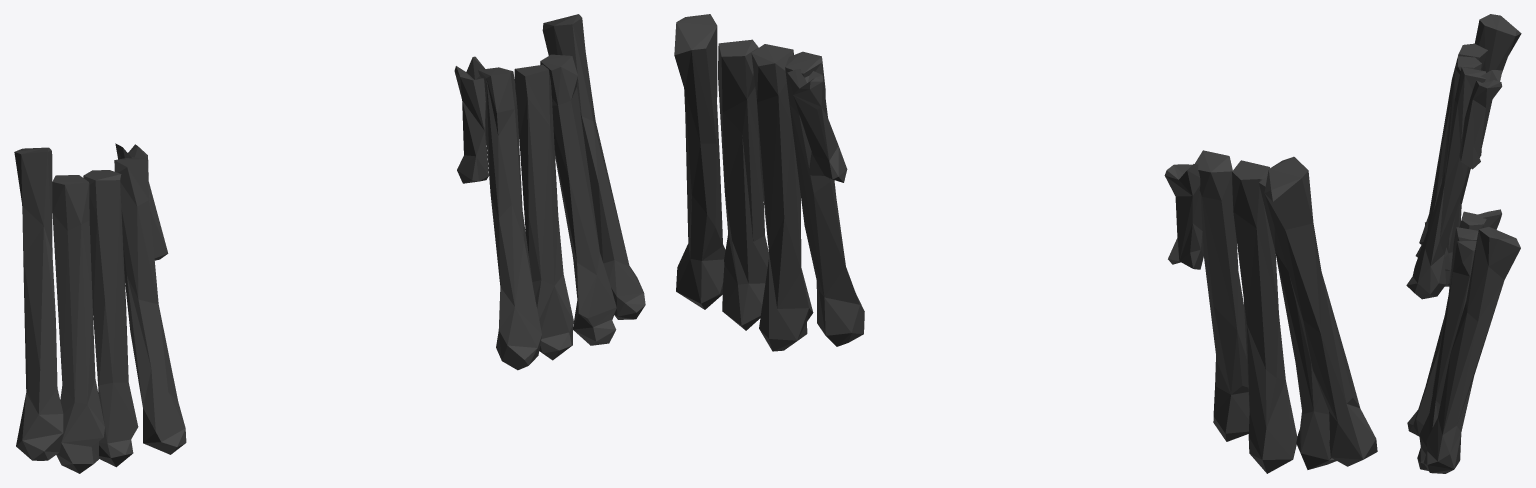
File: Metacarpals.glb
3 views of the same model, side by side, from view 1: azimuth 30°, elevation 25°; view 2: azimuth 150°, elevation 25°; view 3: azimuth 270°, elevation 25° (orthographic). The views are drawn at different scales.
Parts seen in each view (by area): view 1: Metacarpals; view 2: Metacarpals; view 3: Metacarpals.
Part boxes in pixels (x1,y1,x2,y2): Metacarpals: (14, 14, 645, 473); Metacarpals: (674, 14, 1377, 473); Metacarpals: (1406, 14, 1521, 473).
Size of the model in its own units: 0.0044 by 0.00209 by 0.000865.
1 material, 1 textured.
